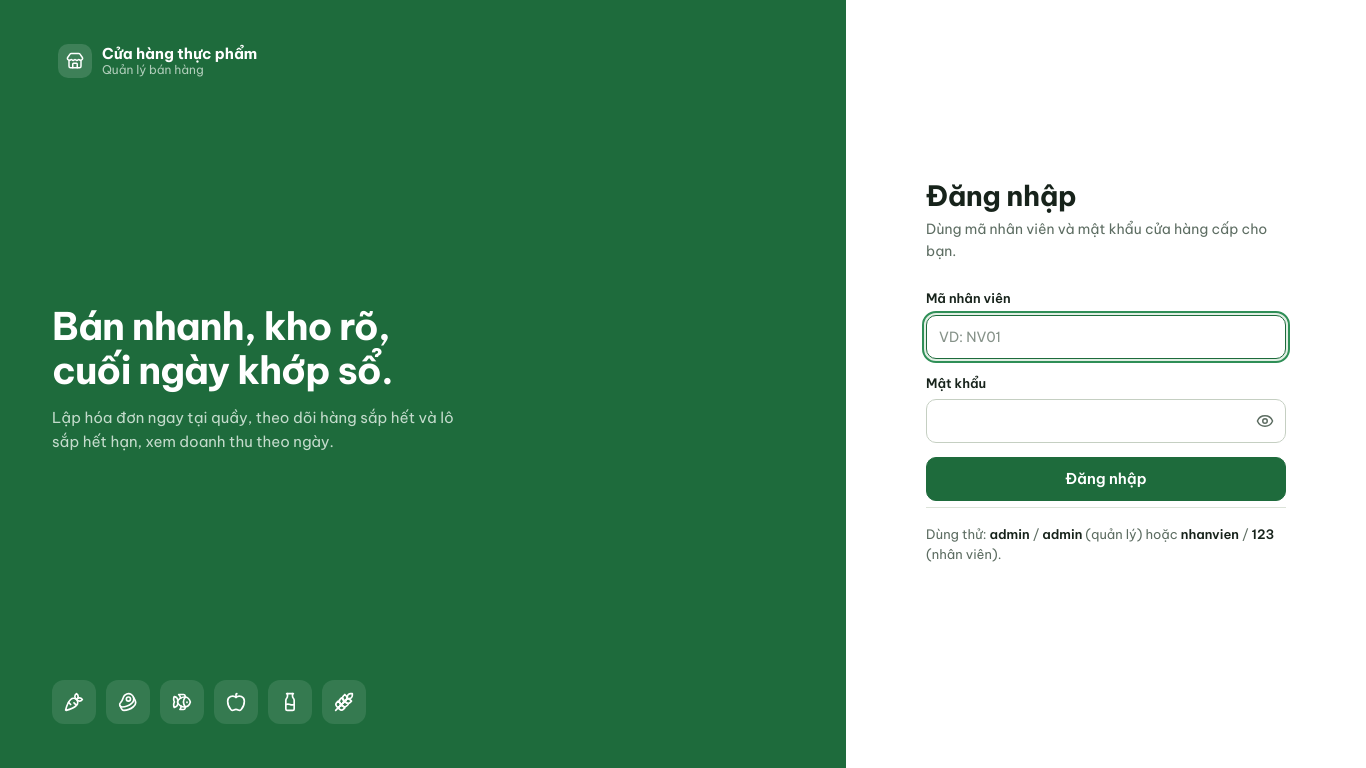
Test case: App › chưa đăng nhập thì chuyển tới trang đăng nhập, đăng nhập xong vào tổng quan
This screenshot has width=1366, height=768.
Expected: the heading "Đăng nhập" is shown, [926,178,1076,213]
Type "admin" into the field labelled "Mã nhân viên".
click(1106, 336); type("admin")  # box [926,314,1286,358]
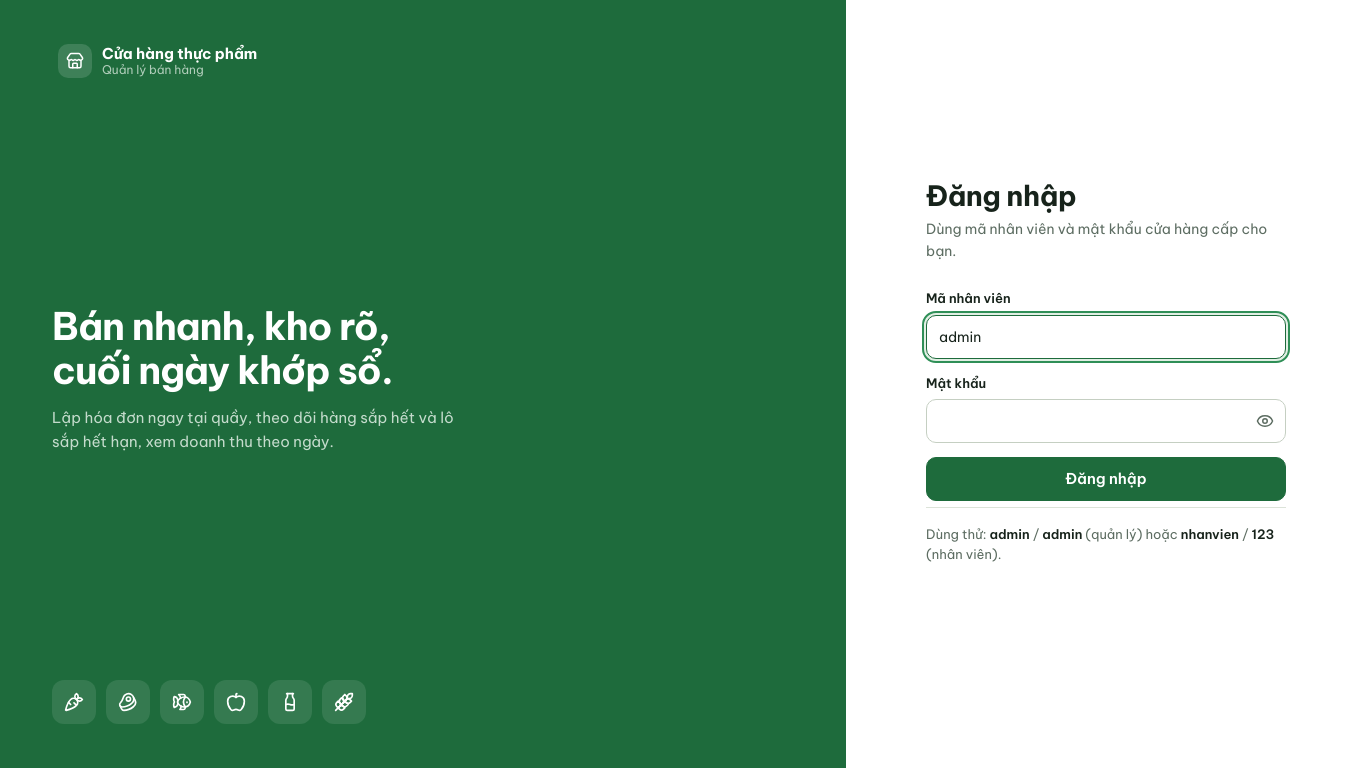
Type "admin" into the password field labelled "Mật khẩu".
click(1106, 421); type("admin")  # box [926,399,1286,443]
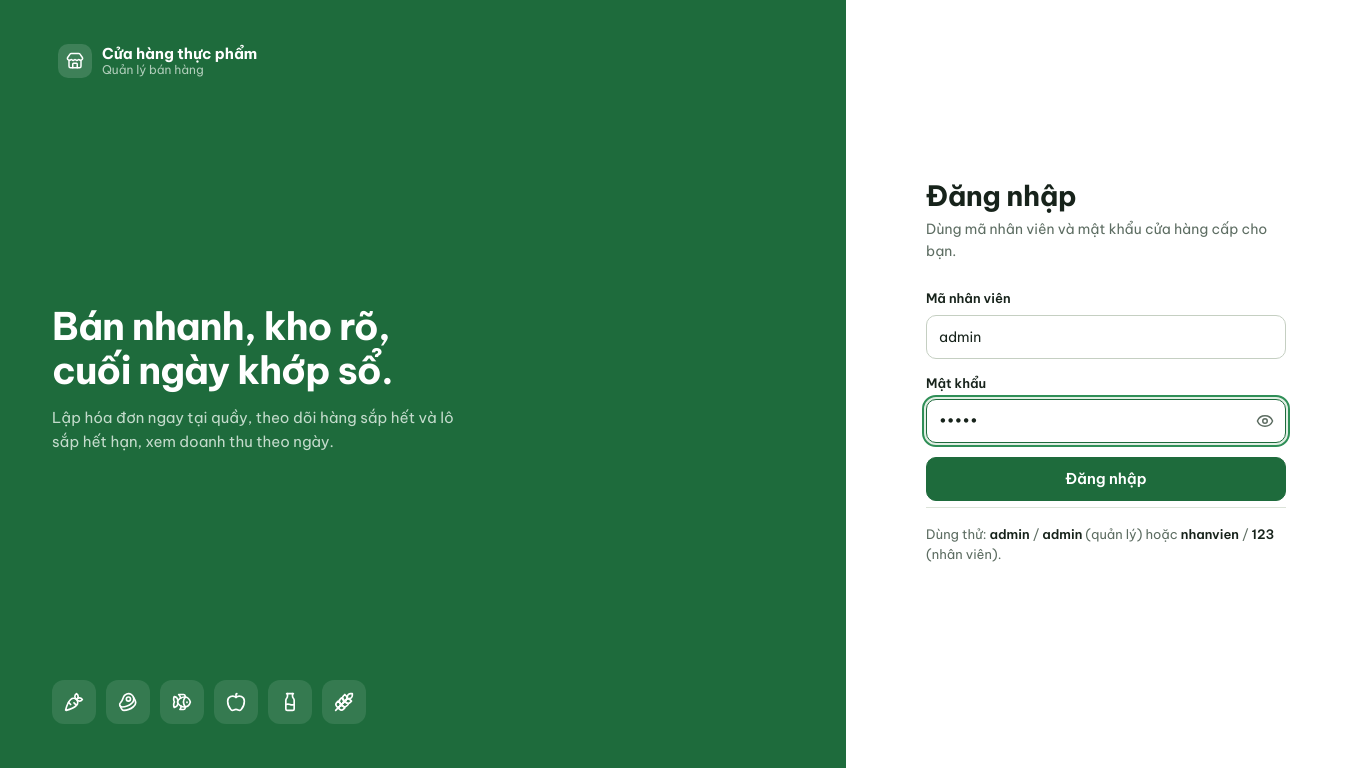
Click the button "Đăng nhập".
click(1106, 479)  # box [926,457,1286,501]
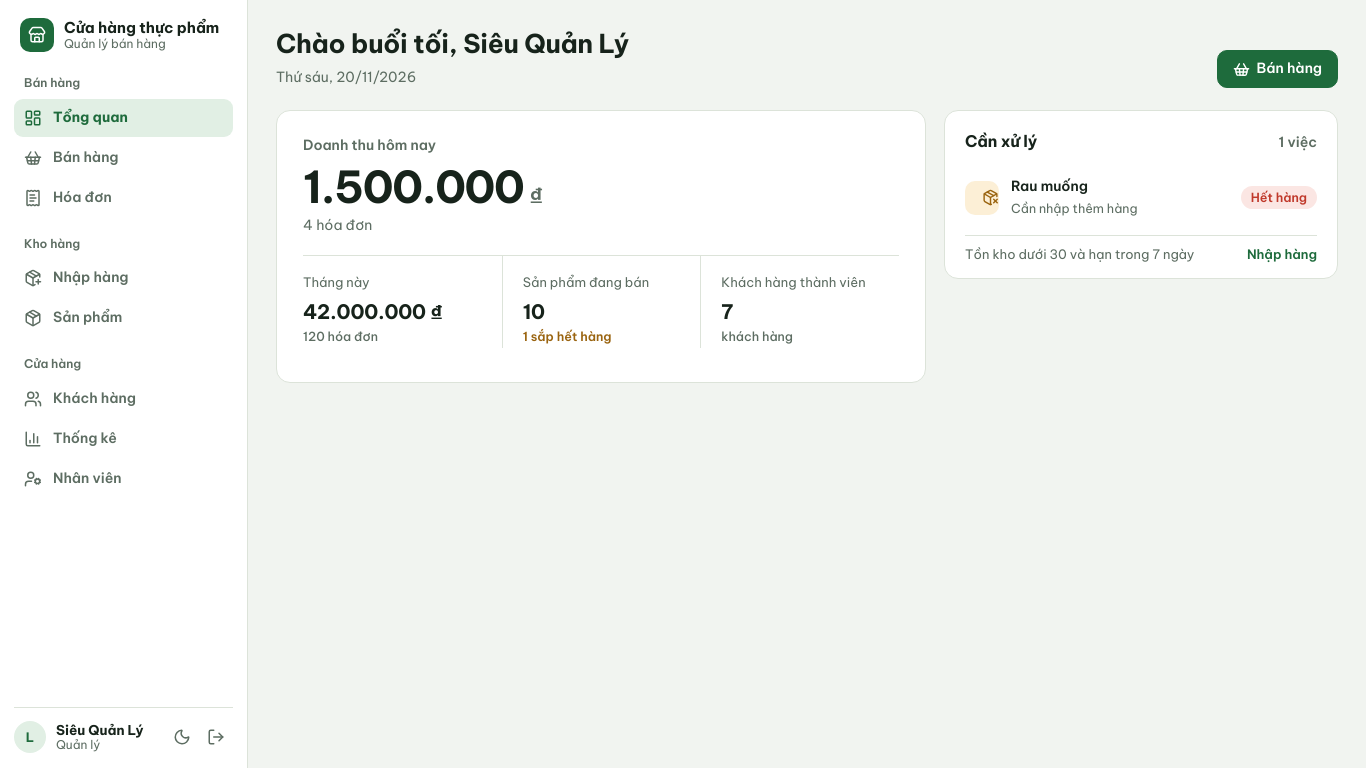
Now the text "Doanh thu hôm nay" is shown, box [303,136,436,154]
Now the text "1.500.000" is shown, box [303,159,524,215]
Now the text "Rau muống" is shown, box [1011,177,1088,195]
